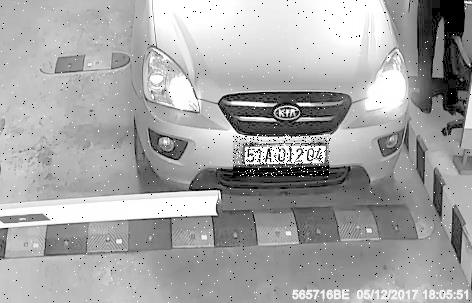License-plate: (235, 136, 332, 179)
